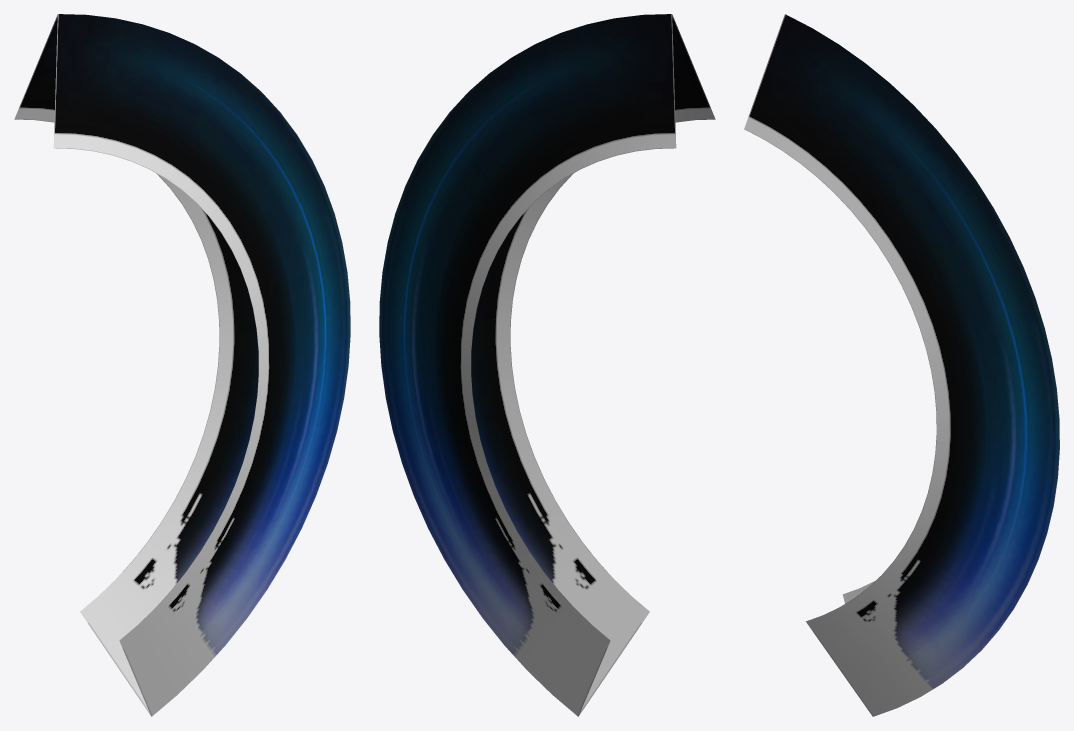
The model's file is daoguang_cdskill_05.FBX.
3 renders of one model, left to right at view 1: azimuth 30°, elevation 25°; view 2: azimuth 150°, elevation 25°; view 3: azimuth 330°, elevation 25°, orthographic. The views are drawn at different scales.
Visible parts, largest first — view 1: Plane002; view 2: Plane002; view 3: Plane002.
Part boxes in pixels (box(x1,y1,x2,y2)): Plane002: box(14, 14, 350, 716); Plane002: box(379, 14, 715, 716); Plane002: box(744, 14, 1059, 716).
Bounding box in the file's own units: 78.83 × 173 × 17.
1 material, 1 textured.
